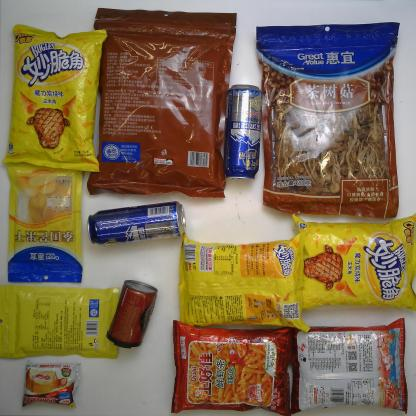Alcohol: (88, 202, 187, 249), (226, 82, 264, 181)
Canned Food: (106, 277, 158, 350)
Dessert: (20, 362, 85, 408)
Dried Food: (254, 19, 405, 222), (90, 6, 237, 200)
Dried Fruit: (0, 284, 124, 361), (5, 170, 86, 286)
Puffed Food: (6, 23, 110, 172), (174, 232, 311, 336), (167, 317, 298, 416), (291, 212, 416, 313), (293, 317, 408, 414)
